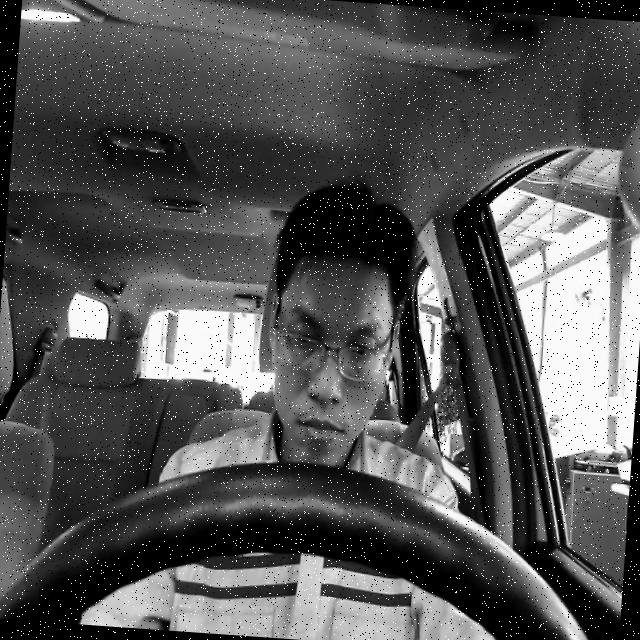focused: (256, 247, 403, 467)
